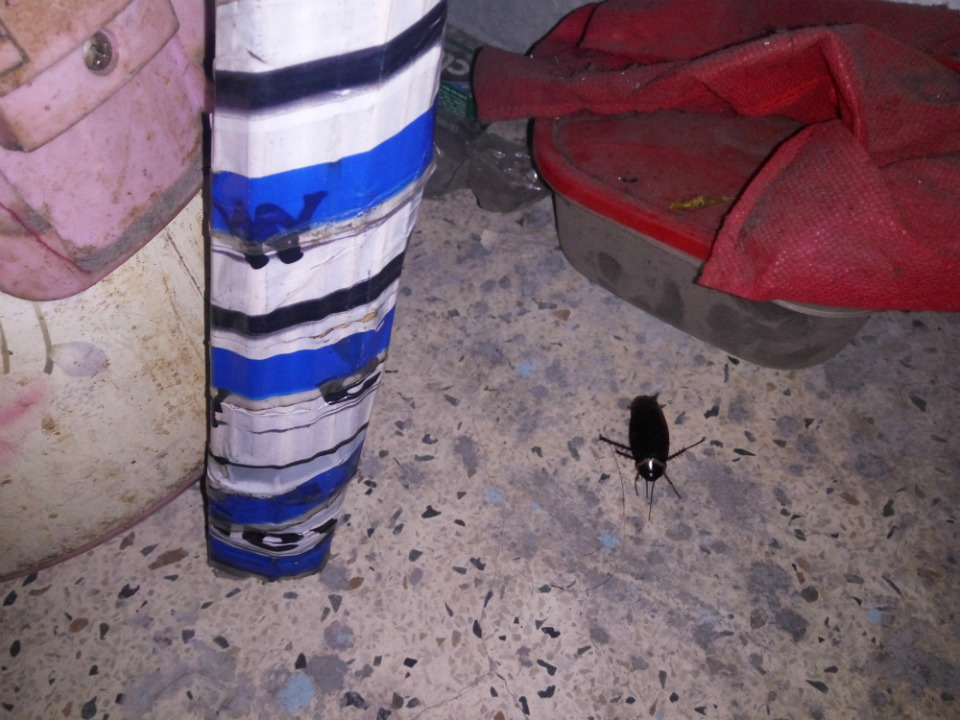cockroach: (568, 376, 747, 529)
